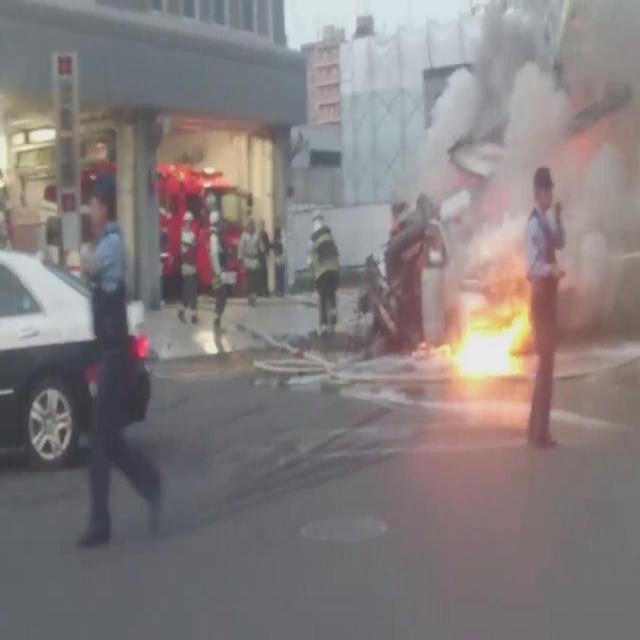Fire: (439, 308, 529, 368)
